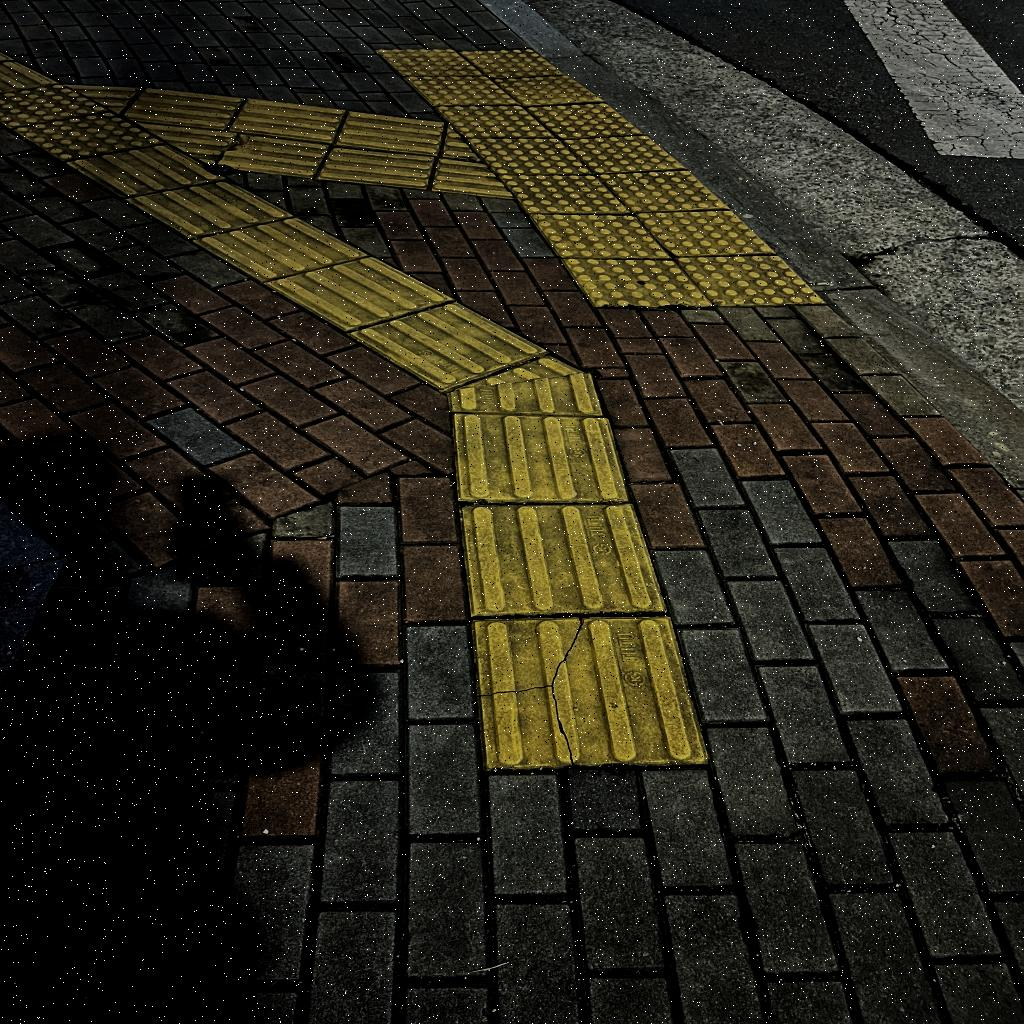Stop block normal: (676, 253, 824, 308), (563, 259, 713, 308), (636, 207, 775, 259), (598, 167, 728, 215), (530, 215, 671, 257), (563, 132, 685, 175), (498, 175, 629, 214), (469, 138, 592, 175)
Straight block broken: (477, 615, 706, 768), (218, 131, 329, 179)
Straight block normal: (346, 265, 545, 424), (461, 503, 665, 616), (267, 236, 451, 346), (195, 204, 367, 292), (456, 414, 627, 500), (127, 167, 293, 248), (68, 134, 224, 207), (230, 97, 346, 144), (334, 110, 444, 157), (318, 146, 435, 190)
